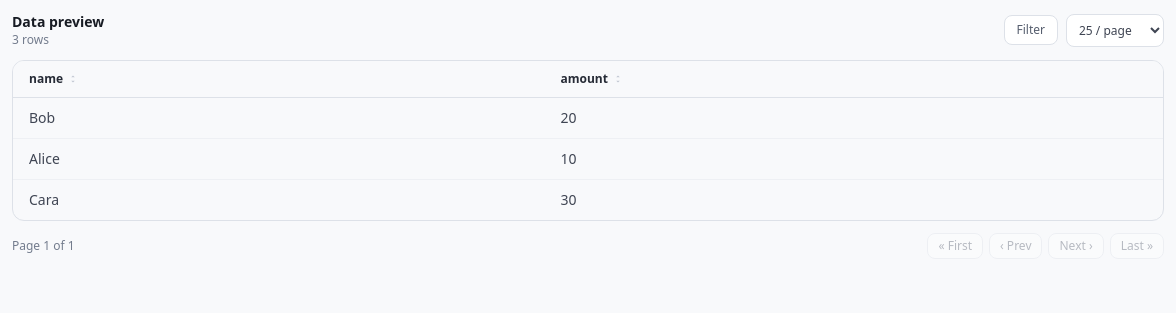
Test: DataPreview › filters rows by text and shows the filtered count
Step 1. Click the button "Filter" → coordinates (1031, 30), box [1004,15,1058,45]
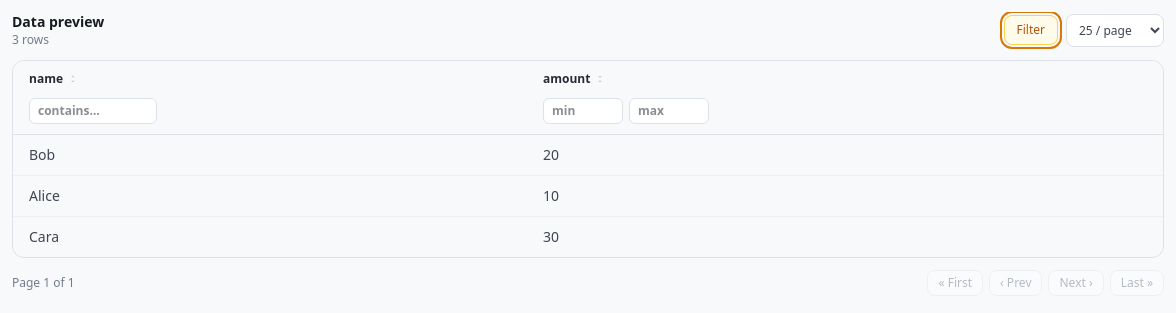
Step 2. Type "ali" into the field with placeholder "contains…" → coordinates (93, 111), box [29,98,157,124]
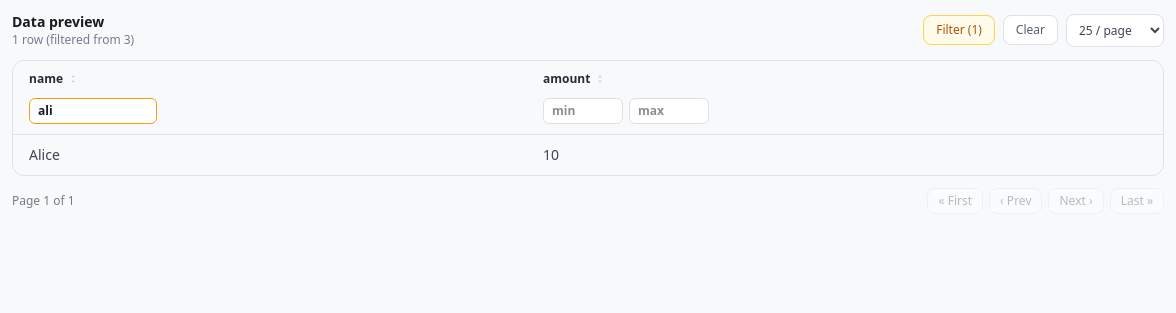
Expected: the row "Alice 10" is shown, [13,134,1163,175]
Expected: the text "1 row (filtered from 3)" is shown, [12,32,134,48]
